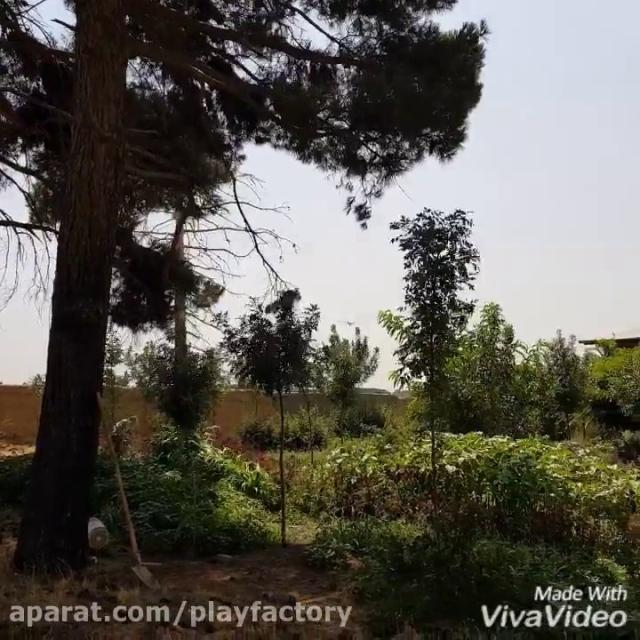drone: (343, 317, 357, 327)
